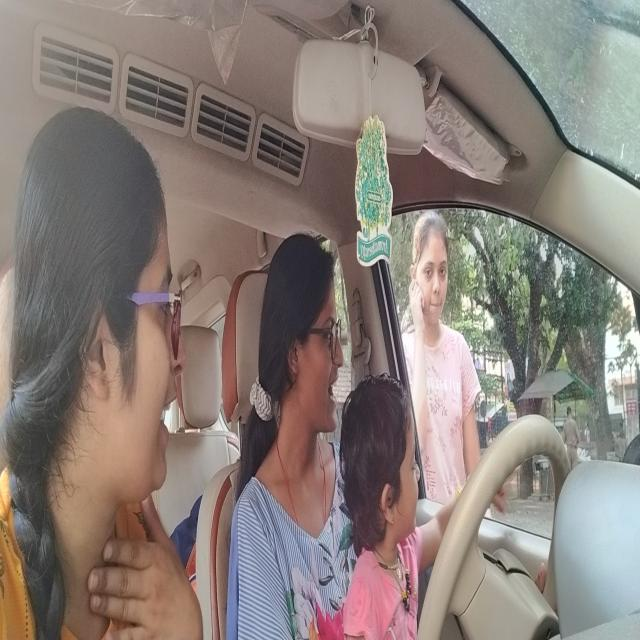child: (340, 368, 421, 544)
person: (13, 115, 190, 527), (263, 222, 346, 466)
